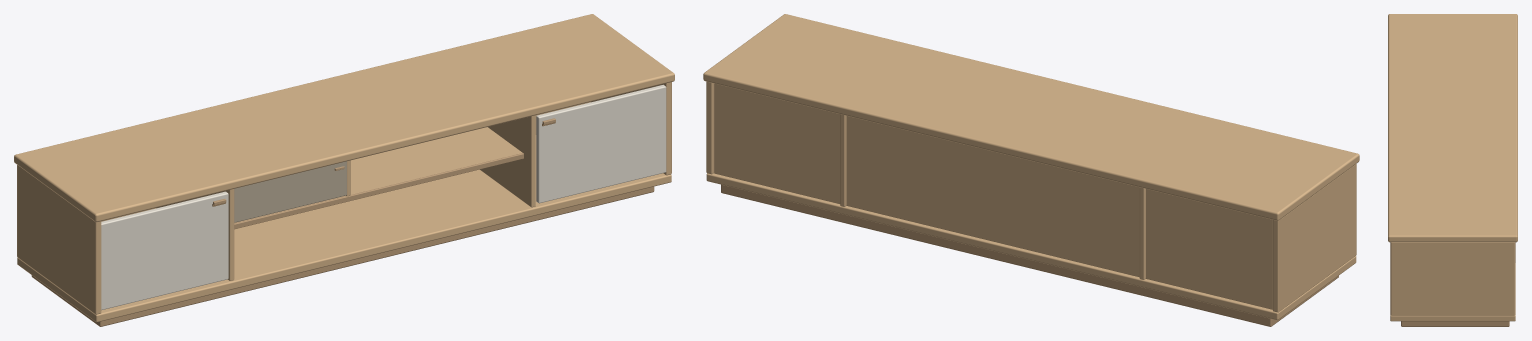
Rendered from family-maple-media-unit-v1.glb.
3 renders of one model, left to right at view 1: azimuth 30°, elevation 25°; view 2: azimuth 150°, elevation 25°; view 3: azimuth 270°, elevation 25°, orthographic. The views are drawn at different scales.
Visible parts, largest first — view 1: Maple media top, Ivory inset door (×2), Maple media bottom, Maple media stile (×2), Maple open shelf, Woven cable grille, Maple media plinth, Maple cubby stile (×2), Solid_edge_lip; view 2: Maple media top, Maple media back, Maple media stile (×2), Maple media bottom, Maple media plinth, Maple cubby stile (×2); view 3: Maple media top, Maple media stile, Maple media bottom, Maple media plinth.
Boxes of the visible parts, x1,y1,x2,y2 form: Maple media top: [14, 14, 674, 222]; Ivory inset door (×2): [101, 84, 666, 310]; Maple media bottom: [17, 135, 671, 322]; Maple media stile (×2): [17, 82, 671, 314]; Maple open shelf: [234, 127, 522, 222]; Woven cable grille: [234, 161, 346, 222]; Maple media plinth: [31, 186, 654, 326]; Maple cubby stile (×2): [156, 115, 535, 280]; Solid_edge_lip: [234, 153, 523, 229]; Maple media top: [703, 14, 1359, 220]; Maple media back: [714, 83, 1272, 309]; Maple media stile (×2): [706, 81, 1356, 312]; Maple media bottom: [706, 173, 1356, 320]; Maple media plinth: [721, 184, 1338, 326]; Maple cubby stile (×2): [840, 114, 1145, 279]; Maple media top: [1388, 14, 1517, 242]; Maple media stile: [1390, 242, 1515, 315]; Maple media bottom: [1390, 242, 1515, 321]; Maple media plinth: [1401, 321, 1509, 326].
Bounding box in the file's own units: 2.19 × 0.441 × 0.54.
